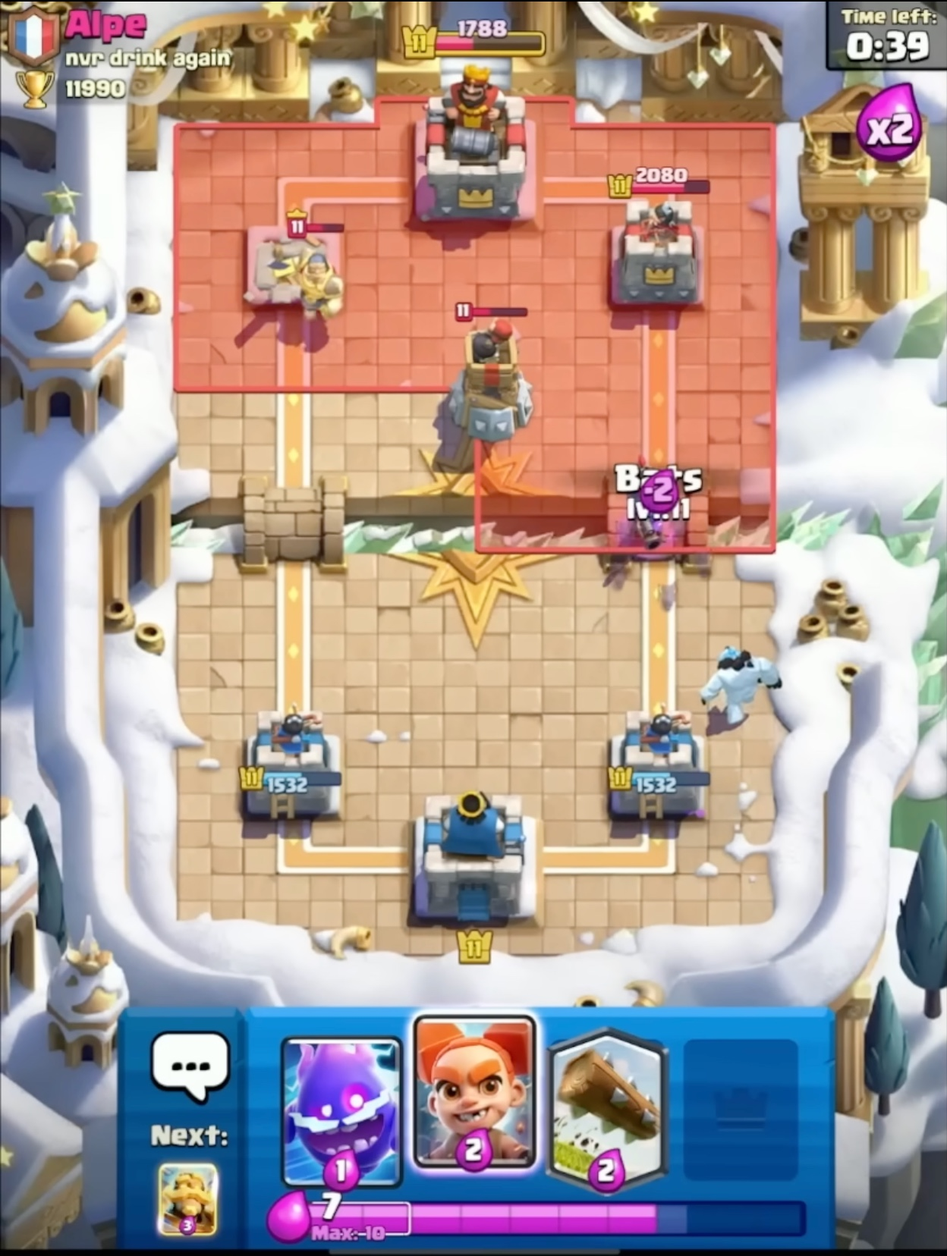bomb-tower: (440, 298, 542, 450)
evo-musketeer: (609, 458, 692, 560)
hero-knight: (268, 205, 353, 332)
